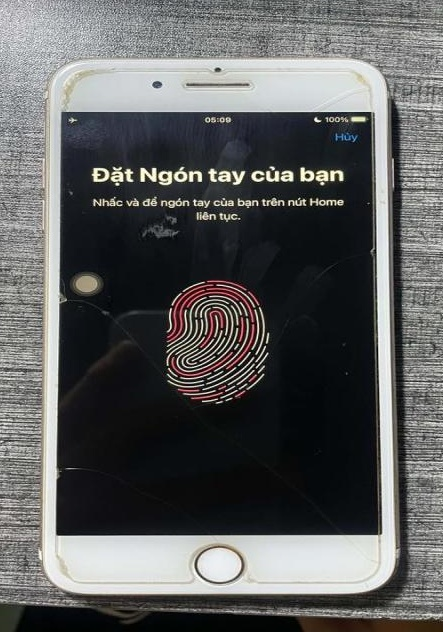physical_damage: (138, 114, 443, 366), (53, 279, 163, 383), (55, 67, 122, 110), (335, 524, 384, 566), (344, 64, 381, 109), (55, 548, 76, 581), (362, 238, 385, 265), (242, 570, 263, 586)
scratch: (131, 208, 191, 251)
